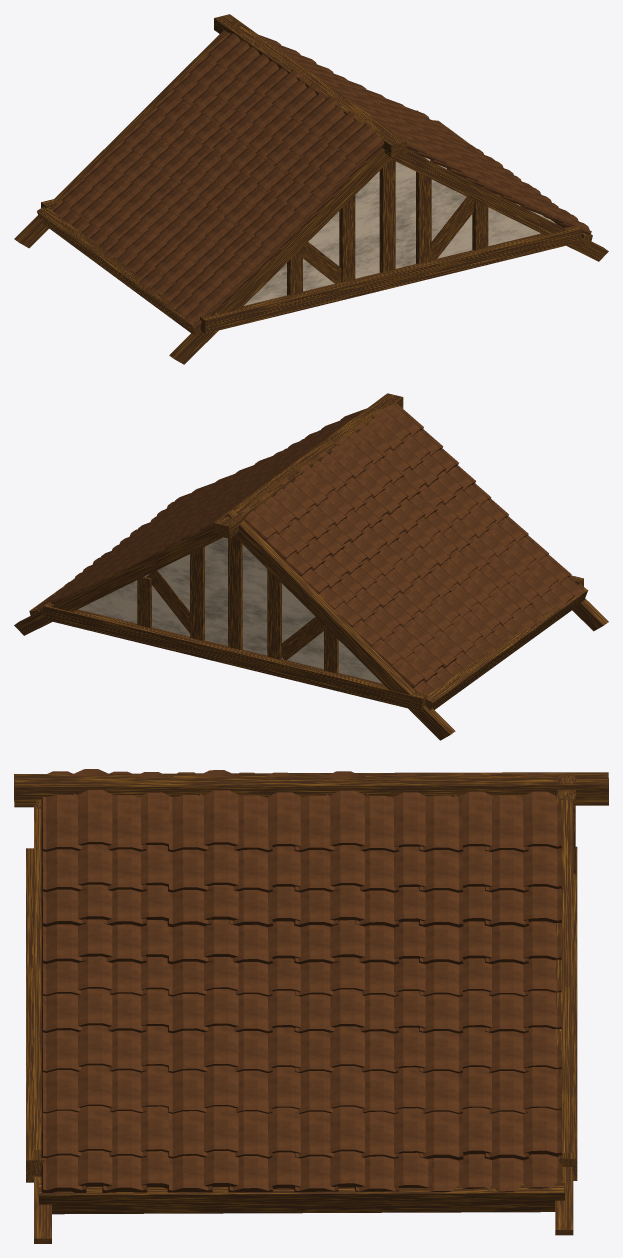
The model's file is Roof Two sided Short .fbx.
3 views of the same model, one above another, from view 1: azimuth 30°, elevation 25°; view 2: azimuth 150°, elevation 25°; view 3: azimuth 270°, elevation 25° (orthographic). The views are drawn at different scales.
Parts seen in each view (by area): view 1: Roof.002; view 2: Roof.002; view 3: Roof.002.
Part boxes in pixels (<box>): Roof.002: <box>14,14,608,364</box>; Roof.002: <box>14,393,608,740</box>; Roof.002: <box>14,769,608,1243</box>.
Bounding box in the file's own units: 753 × 1081 × 423.
